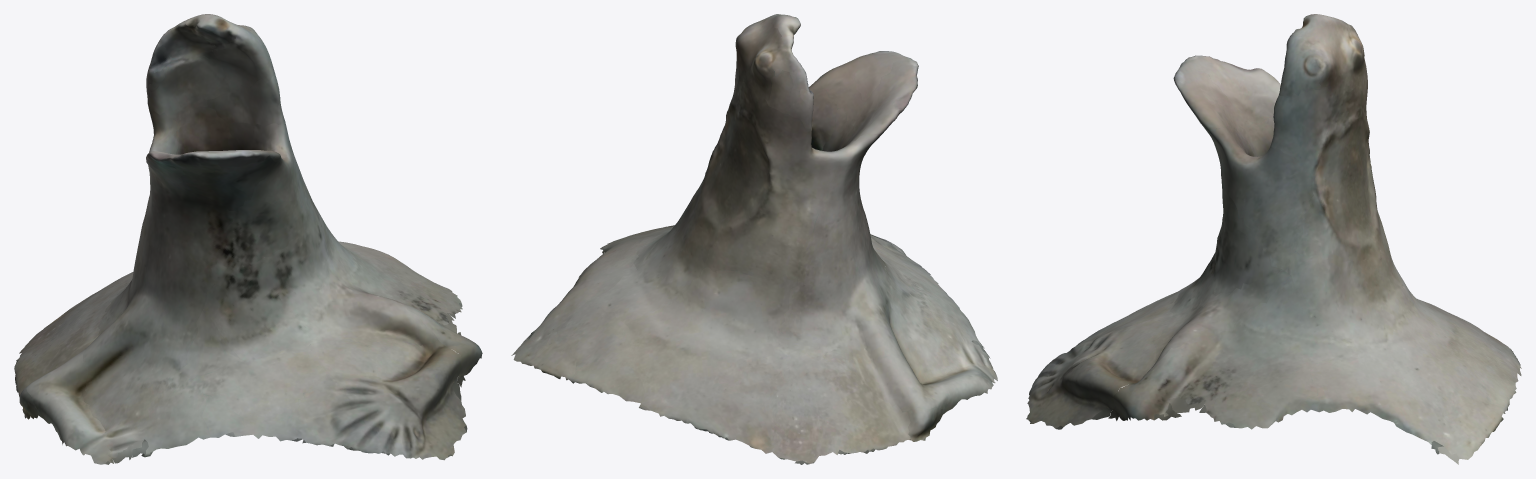
3 renders of one model, left to right at view 1: azimuth 30°, elevation 25°; view 2: azimuth 150°, elevation 25°; view 3: azimuth 270°, elevation 25°, orthographic. The views are drawn at different scales.
Visible parts, largest first — view 1: mmGroup0; view 2: mmGroup0; view 3: mmGroup0.
Boxes of the visible parts, x1,y1,x2,y2 form: mmGroup0: (14, 14, 482, 464); mmGroup0: (511, 14, 997, 464); mmGroup0: (1026, 14, 1521, 464).
Bounding box in the file's own units: 0.5476 × 0.5048 × 0.5992.
Materials: 2 (2 with a texture image).
